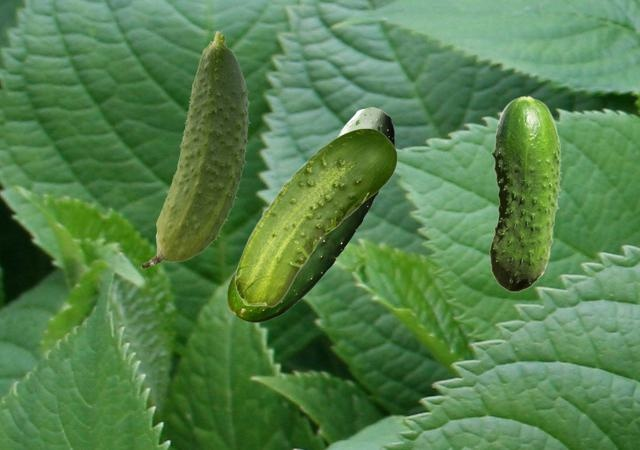cucumber: (227, 107, 393, 321), (234, 128, 396, 306), (141, 31, 249, 267), (489, 95, 561, 291)
